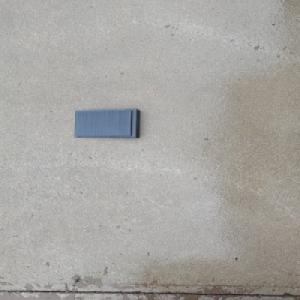PlasticPart: (72, 107, 141, 138)
